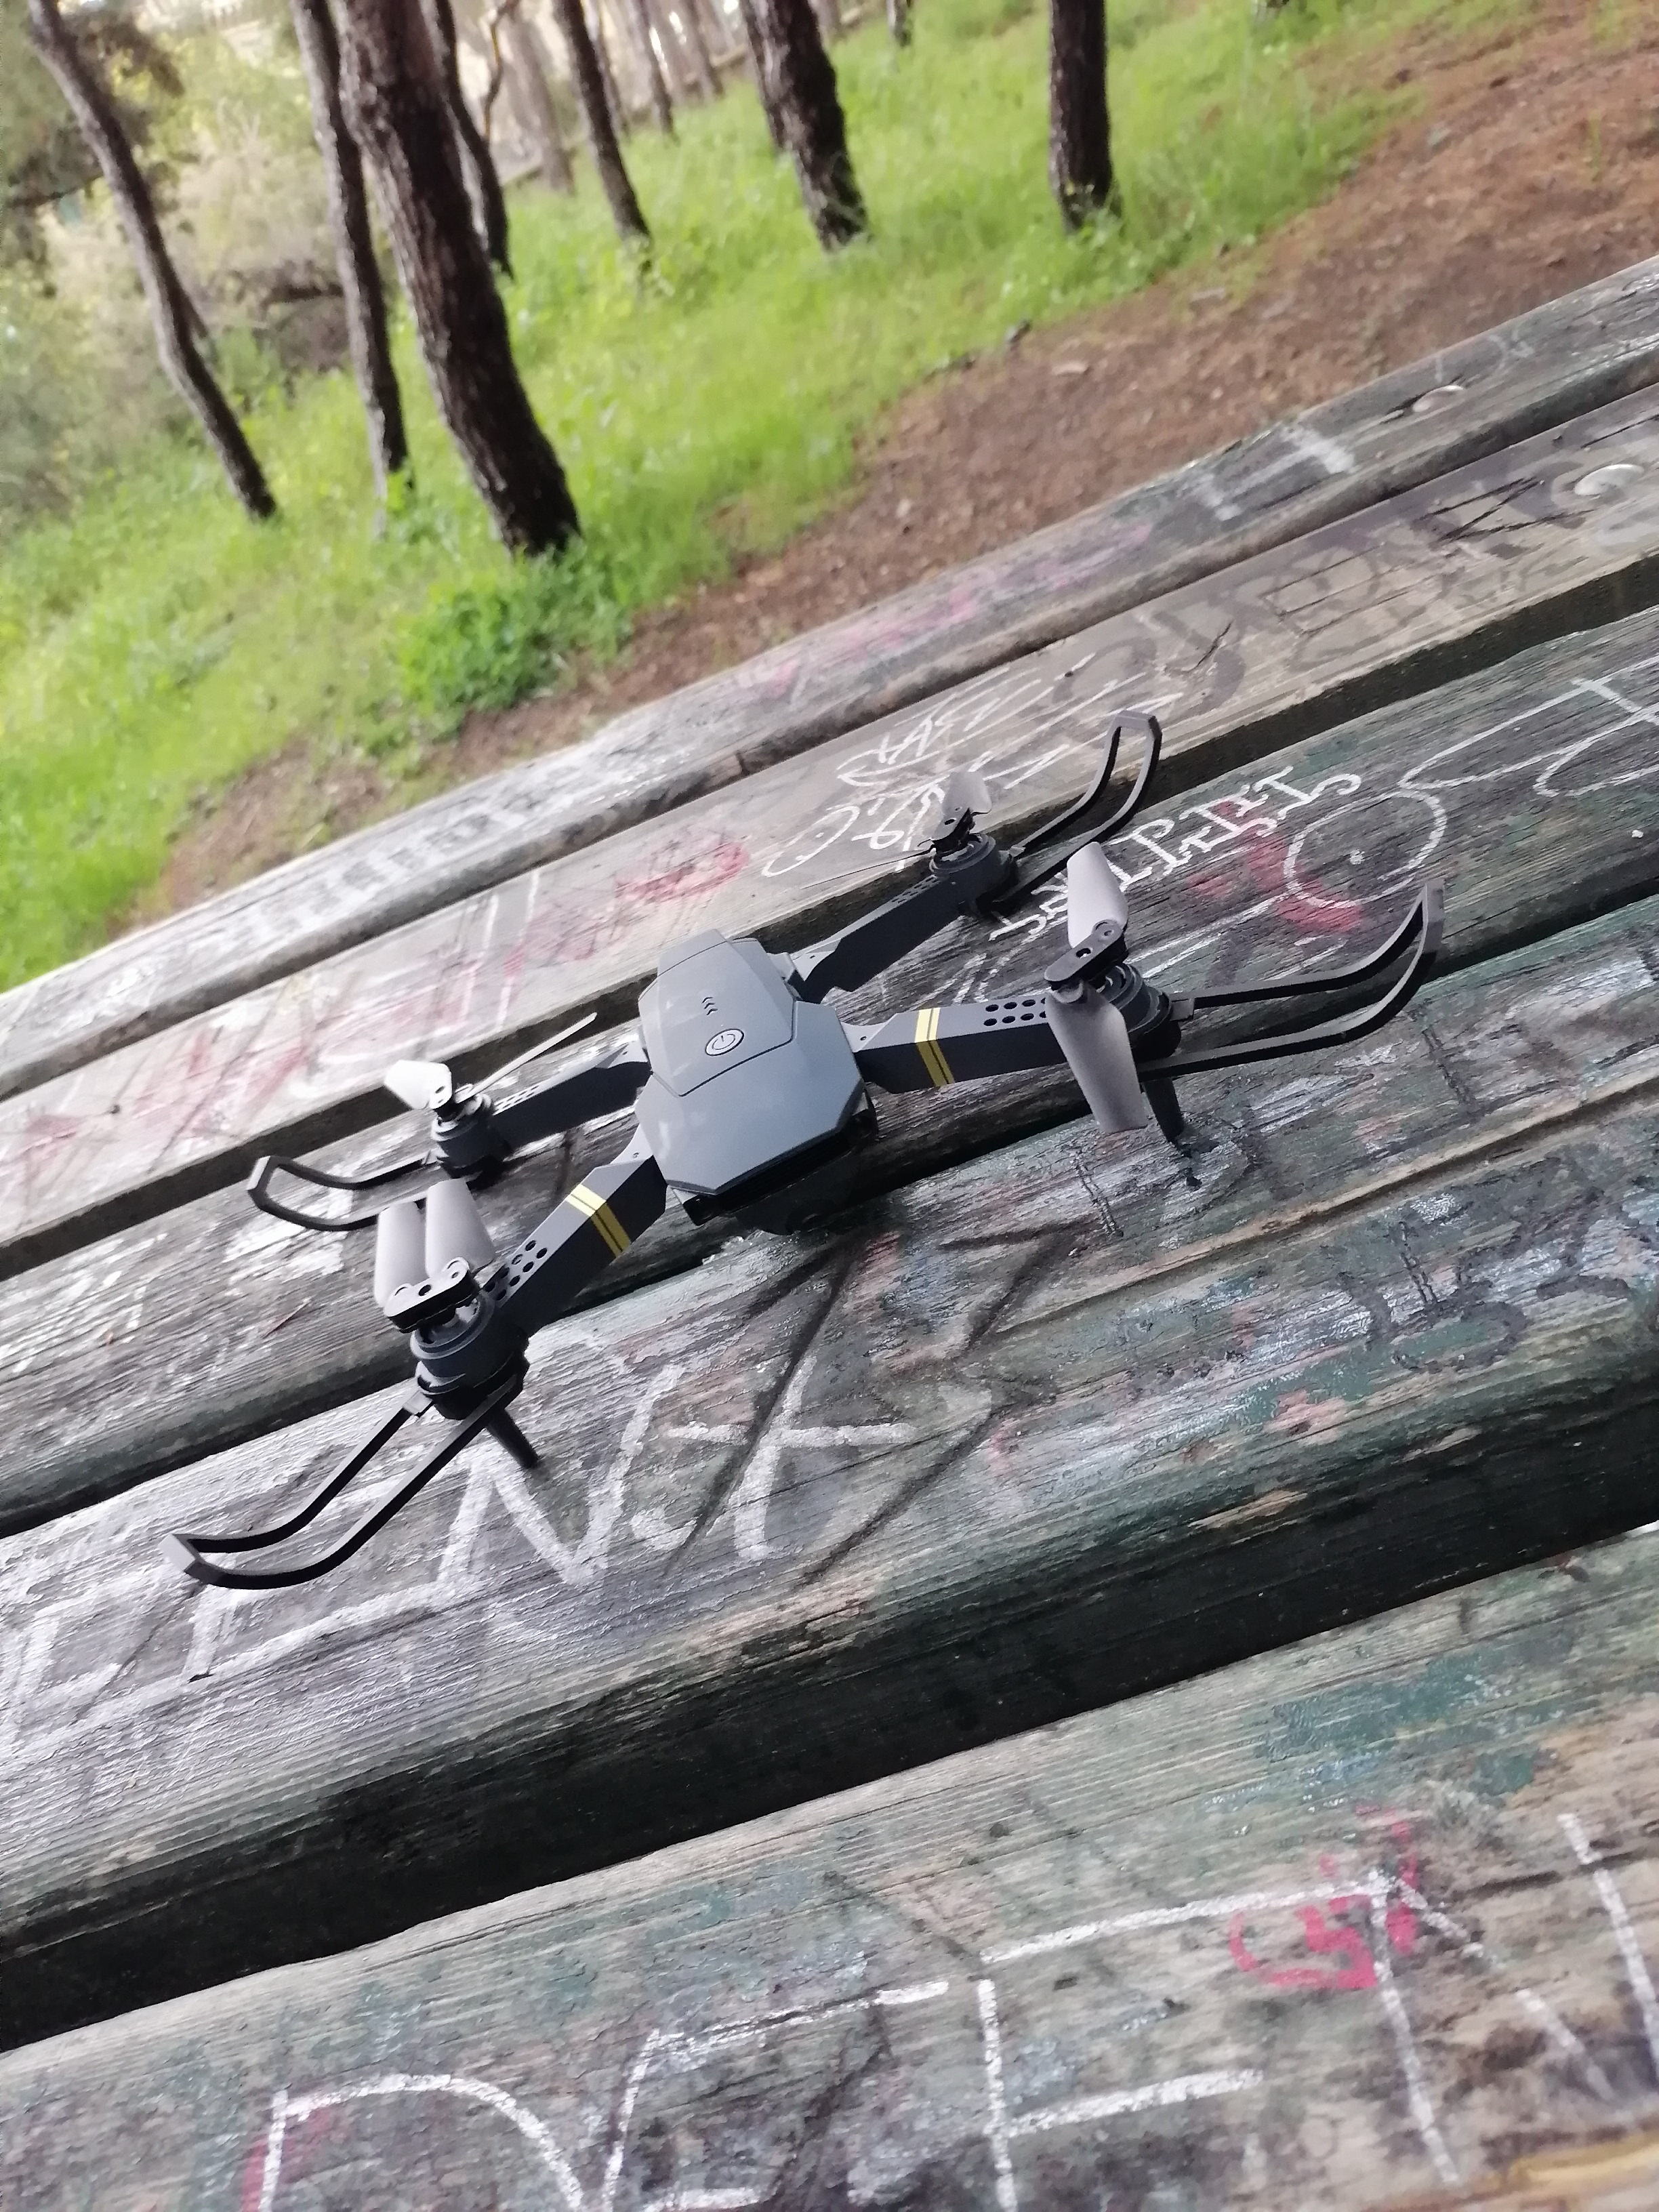drone: (143, 641, 1406, 1634)
